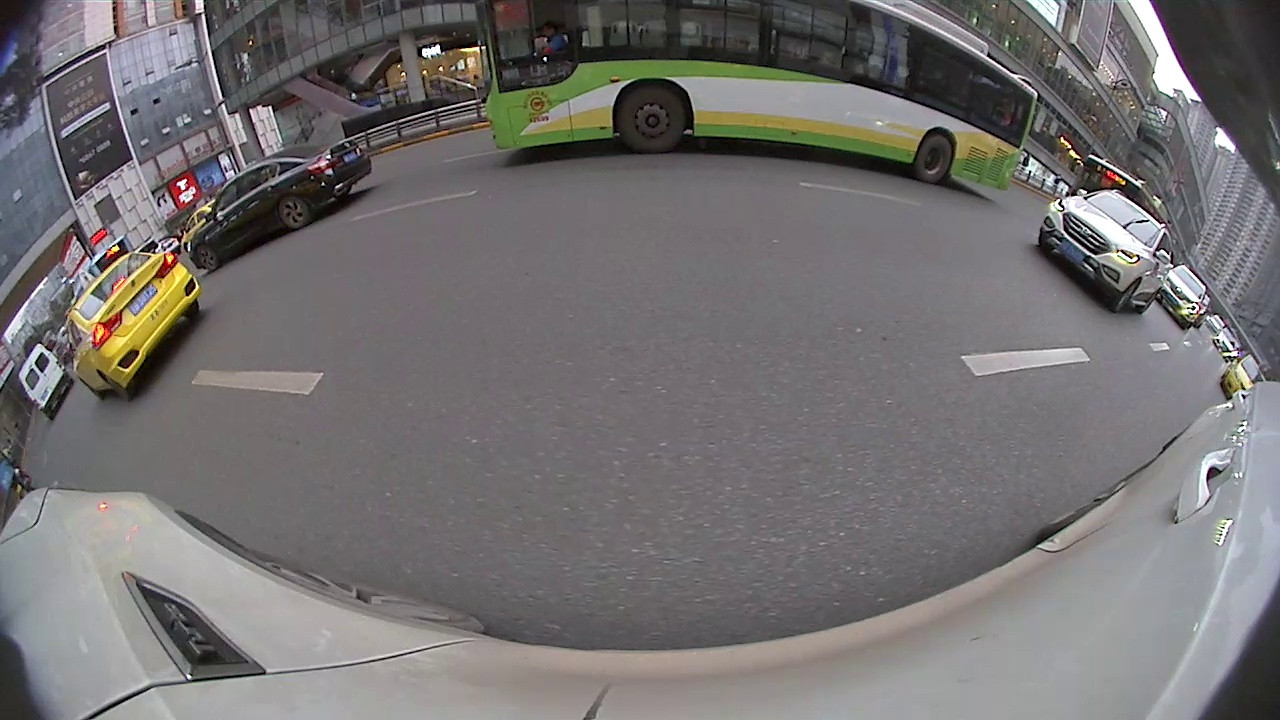bus: (472, 0, 1041, 198)
car: (182, 139, 374, 273), (59, 242, 201, 403), (1031, 192, 1172, 319), (17, 342, 76, 421), (1154, 263, 1216, 328)
front: (612, 84, 690, 157), (1110, 278, 1139, 315), (194, 246, 220, 272)
rear: (912, 132, 953, 186), (277, 196, 311, 231)
